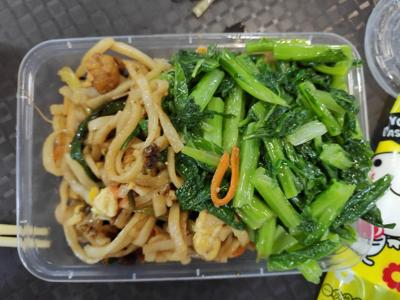ymc: (184, 49, 374, 263)
